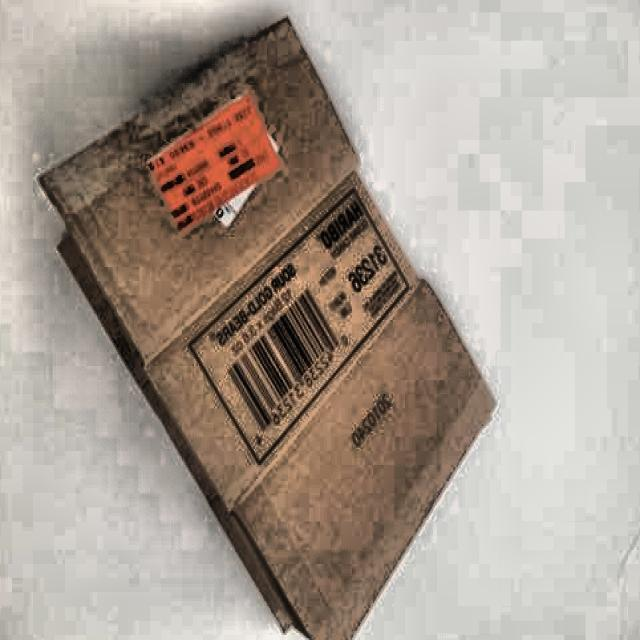cardboard: (38, 12, 498, 640)
